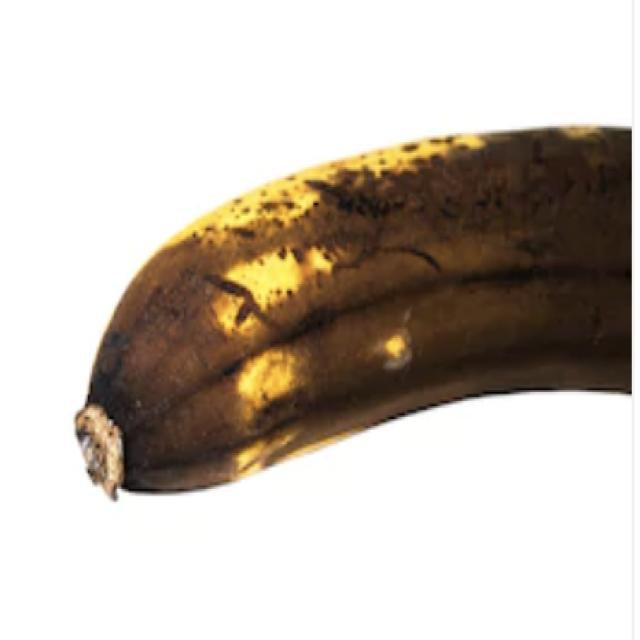rotten-banana: (73, 122, 630, 500)
